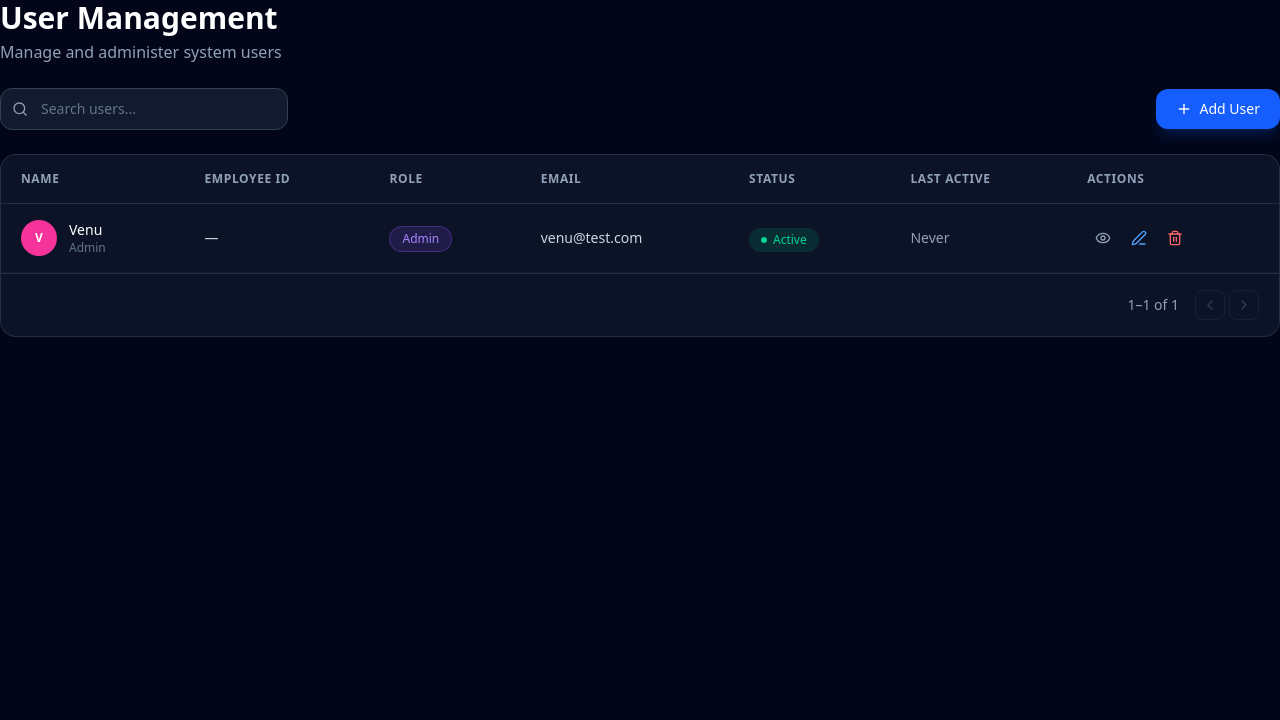
Test: UserManagement Tests › should show validation error if required fields missing
Click the button "Add User" at {"x": 1218, "y": 109}, box [1156,89,1279,129]
(page scrolled)
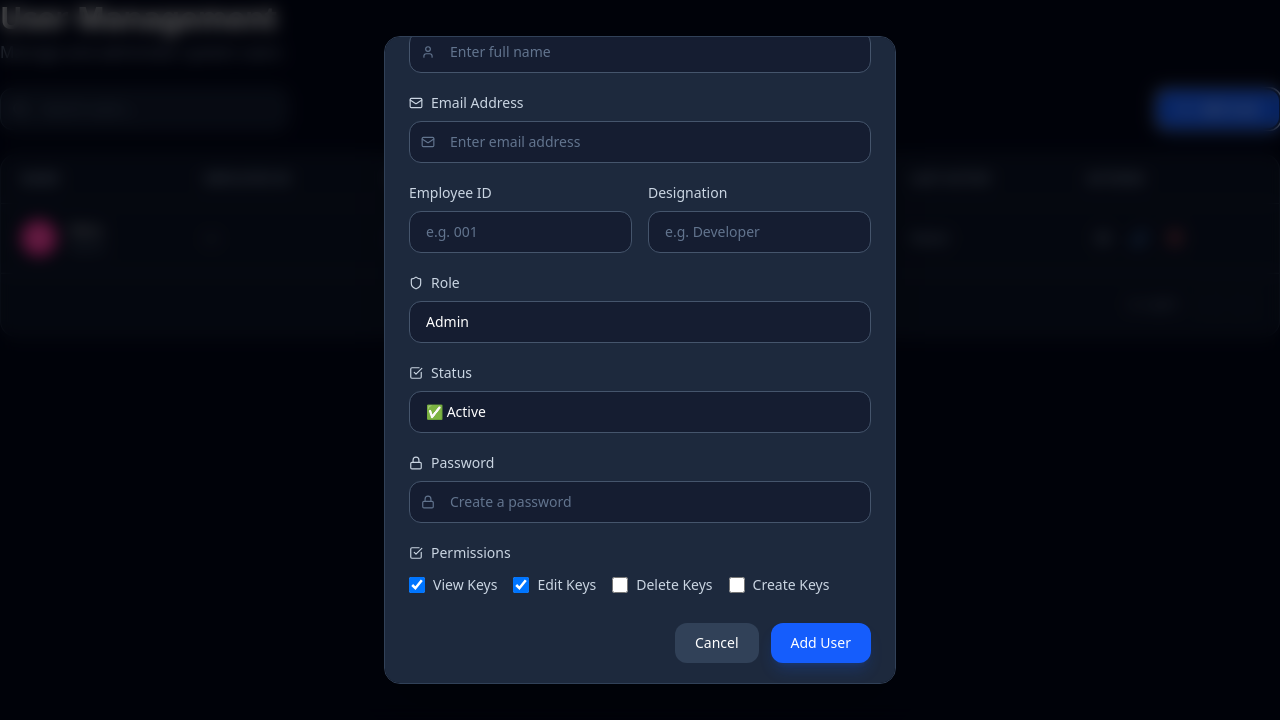
Click the button "Add User" at {"x": 821, "y": 643}, box [771,623,871,663]
(page scrolled)
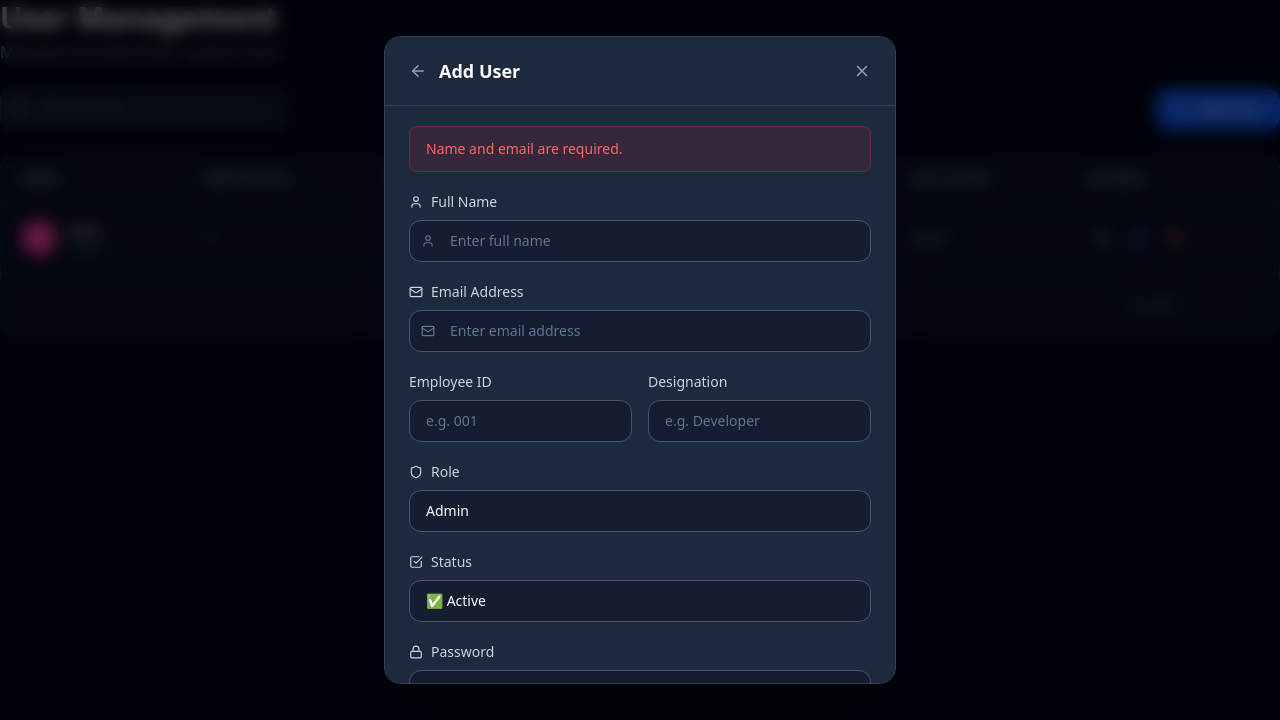
Expected: the text "Name and email are required." is shown, [409,126,871,172]
